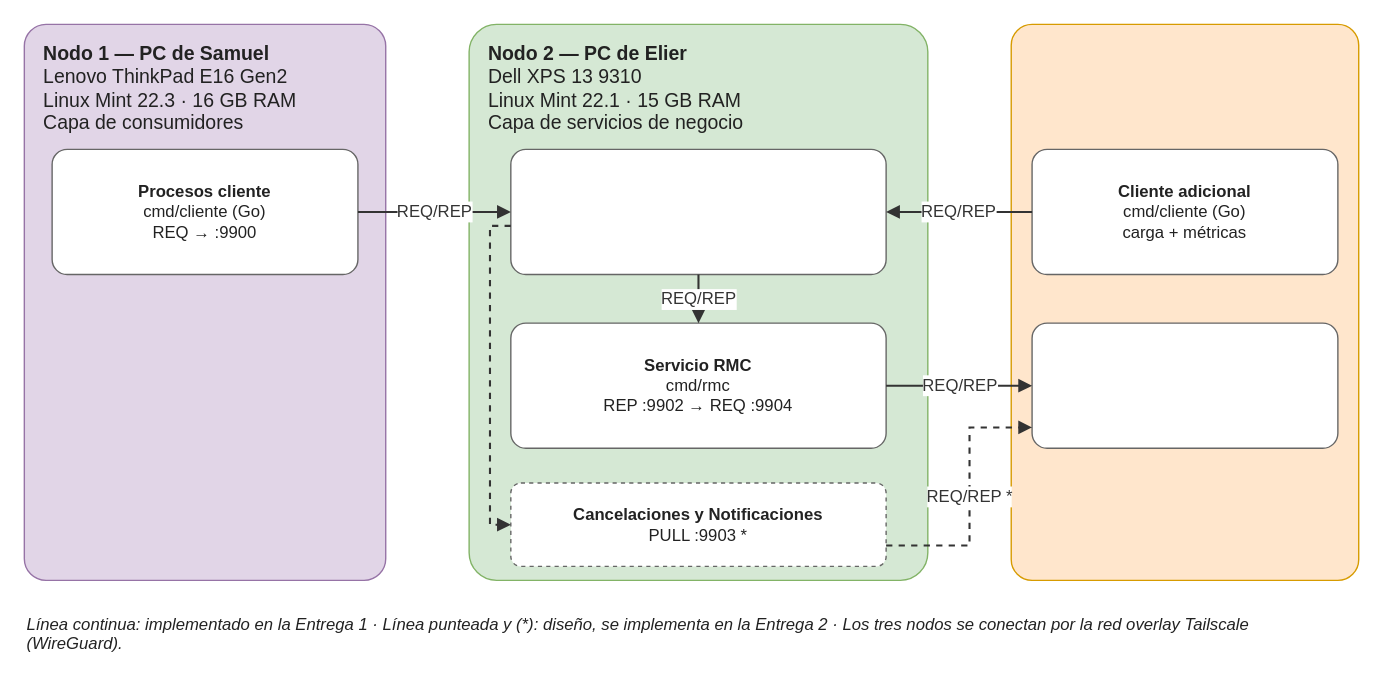
Some shapes in this 1383 by 680 pixel diagram are drawn without their labels. Here are the shapes that lost their labels. From the top down, the box of each, then its label:
(509, 148, 886, 275): Gestor de Transacciones cmd/gestor_transacciones REP :9900 · asíncrono :9901*
(1010, 23, 1359, 580): Nodo 3 — Google Pixel 9a Android 17 · 8 GB RAM Capa de almacenamiento
(1031, 322, 1338, 448): Servicio de Persistencia cmd/persistencia REP :9904 · BD + JSON
